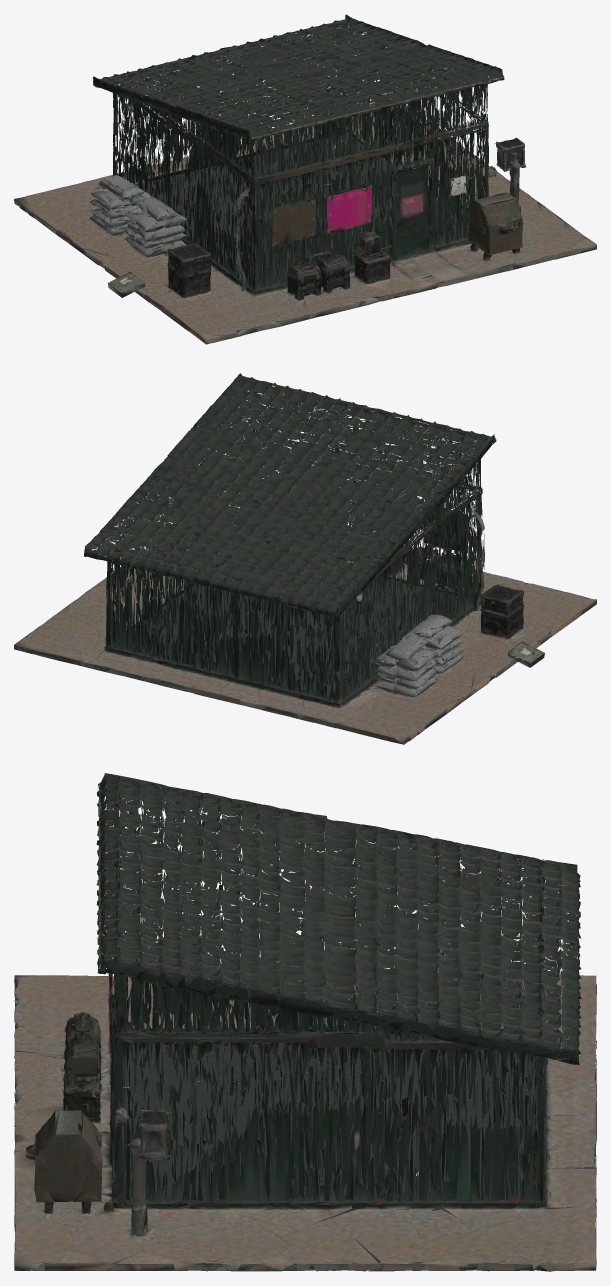
File: bunkhouse.glb
3 renders of one model, top to bottom at view 1: azimuth 30°, elevation 25°; view 2: azimuth 150°, elevation 25°; view 3: azimuth 270°, elevation 25°, orthographic. The views are drawn at different scales.
Visible parts, largest first — view 1: Mesh_0; view 2: Mesh_0; view 3: Mesh_0.
Boxes of the visible parts, x1,y1,x2,y2 form: Mesh_0: (14,14,596,344); Mesh_0: (14,373,596,744); Mesh_0: (14,773,596,1271).
Bounding box in the file's own units: 1.9 × 0.7786 × 1.56.
1 material, 1 textured.
